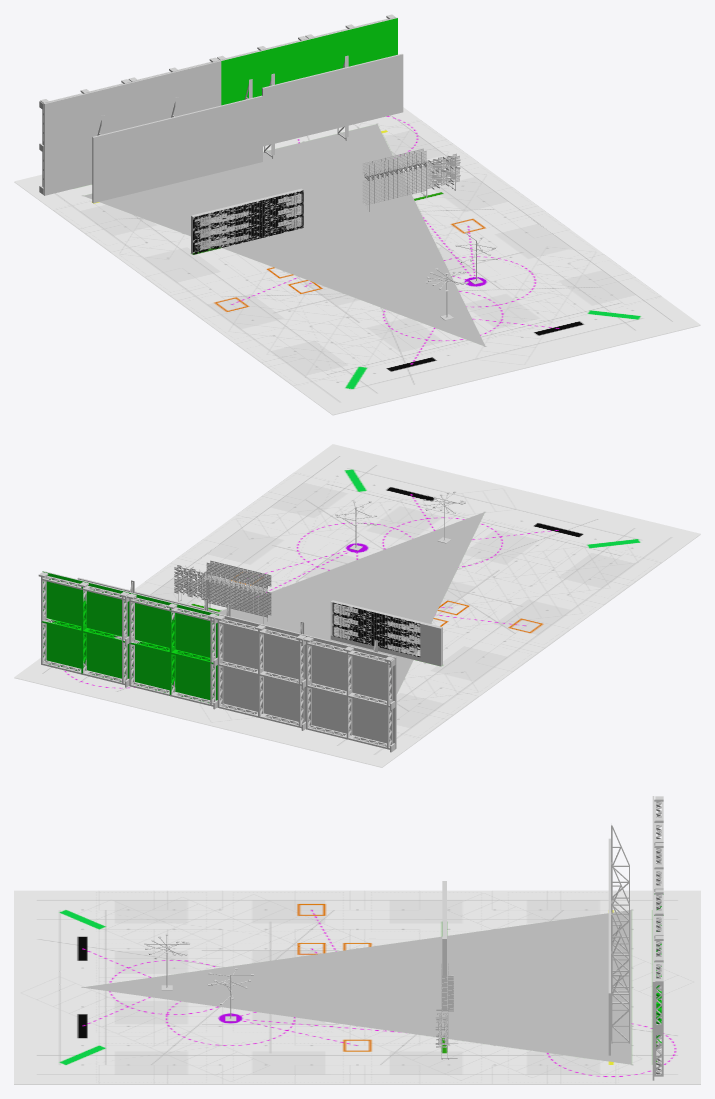
3 views of the same model, one above another, from view 1: azimuth 30°, elevation 25°; view 2: azimuth 150°, elevation 25°; view 3: azimuth 270°, elevation 25° (orthographic). The views are drawn at different scales.
Parts seen in each view (by area): view 1: Plane, Billboard, Billboard.001, Module+(Corner).004, Cube, Module+(Corner).002, Module+(Corner).001, Module+(Corner), Mechanical_Hedge_testV2, Mechanical_Hedge_test, Plane.001; view 2: Plane, Module+(Corner).001, Module+(Corner).002, Module+(Corner), Module+(Corner).004, Cube, Module+(Corner).003, Mechanical_Hedge_testV2, Plane.001, Mechanical_Hedge_test; view 3: Plane, Module+(Corner), Billboard, Billboard.001, Plane.001, Module+(Corner).001, Module+(Corner).002, Module+(Corner).004, Mechanical_Hedge_testV2, Cube, Mechanical_Hedge_test, Micro+Drone+Landing+Pad+Tree+6.
Boxes of the visible parts, x1,y1,x2,y2 form: Plane: (14, 107, 700, 414); Billboard: (92, 79, 262, 203); Billboard.001: (262, 54, 403, 158); Module+(Corner).004: (39, 82, 132, 195); Cube: (191, 188, 303, 254); Module+(Corner).002: (128, 57, 221, 126); Module+(Corner).001: (216, 36, 309, 105); Module+(Corner): (305, 14, 397, 75); Mechanical_Hedge_testV2: (362, 148, 426, 211); Mechanical_Hedge_test: (421, 153, 460, 197); Plane.001: (14, 182, 700, 415); Plane: (14, 444, 700, 766); Module+(Corner).001: (127, 592, 219, 709); Module+(Corner).002: (215, 614, 307, 730); Module+(Corner): (38, 571, 130, 687); Module+(Corner).004: (306, 635, 396, 749); Cube: (330, 600, 442, 666); Module+(Corner).003: (303, 636, 395, 752); Mechanical_Hedge_testV2: (204, 560, 271, 623); Plane.001: (14, 534, 700, 767); Mechanical_Hedge_test: (174, 565, 209, 607); Plane: (14, 890, 700, 1083); Module+(Corner): (652, 935, 663, 1080); Billboard: (608, 823, 629, 992); Billboard.001: (608, 912, 629, 1055); Plane.001: (14, 1084, 700, 1084); Module+(Corner).001: (652, 889, 663, 1024); Module+(Corner).002: (652, 842, 663, 955); Module+(Corner).004: (652, 796, 663, 861); Mechanical_Hedge_testV2: (441, 963, 453, 1011); Cube: (442, 881, 446, 977); Mechanical_Hedge_test: (435, 1007, 458, 1059); Micro+Drone+Landing+Pad+Tree+6: (144, 933, 190, 990).
Size of the model in its own units: 50 by 12 by 75.
